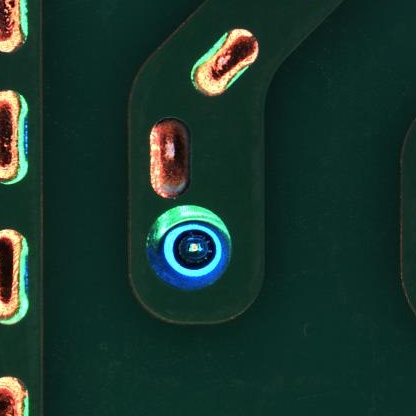spot: (144, 204, 232, 290)
